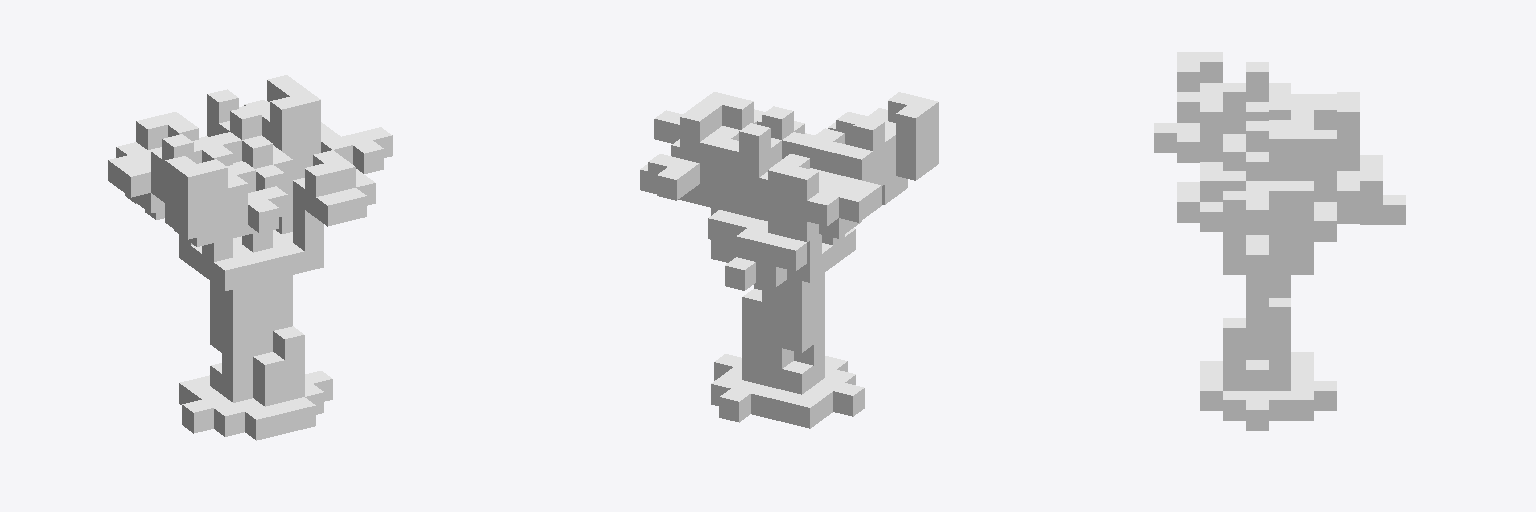
Rendered from JungleTree1.obj.
The picture shows the model from 3 angles: view 1: azimuth 30°, elevation 25°; view 2: azimuth 150°, elevation 25°; view 3: azimuth 270°, elevation 25°; orthographic projection.
Size of the model in its own units: 12 by 14 by 11.